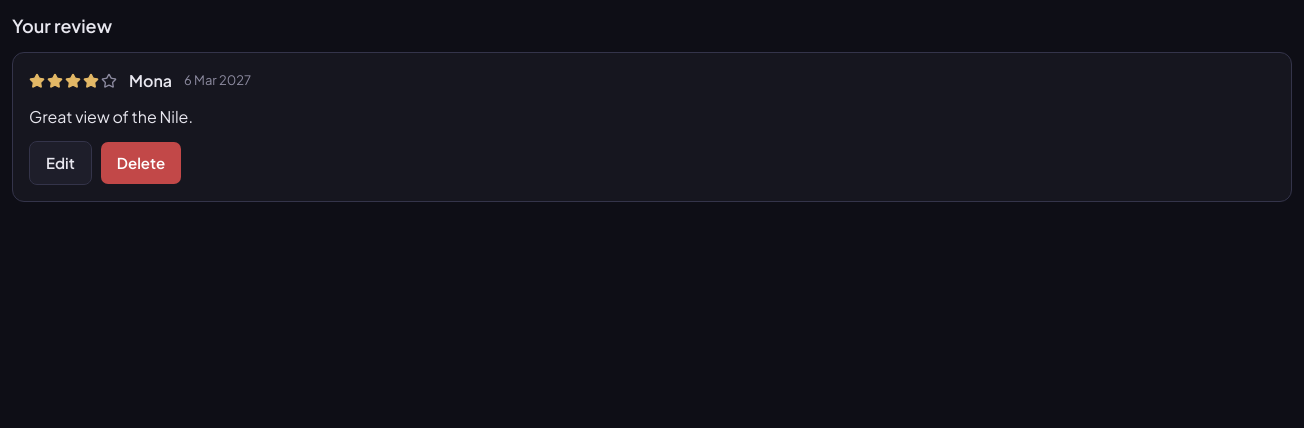
it: an edit error shows the backend message above the form and keeps the form open
Step 1. Click the button "Edit" → (60, 163), box [29,141,92,185]
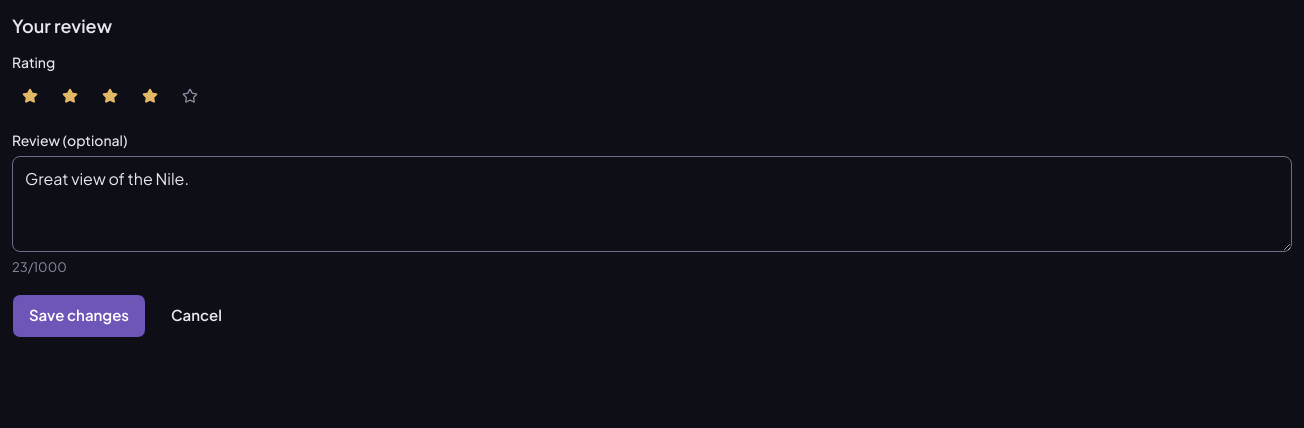
Step 2. Click the radio button named "1 star" → (30, 96), box [22,88,38,104]
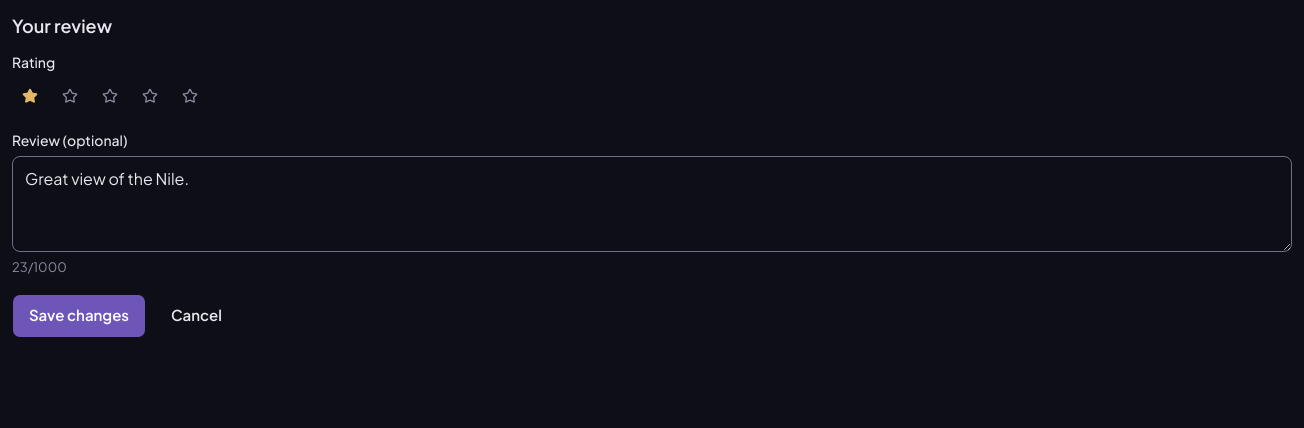
Step 3. Click the button "Save changes" → (79, 316), box [12,294,146,338]
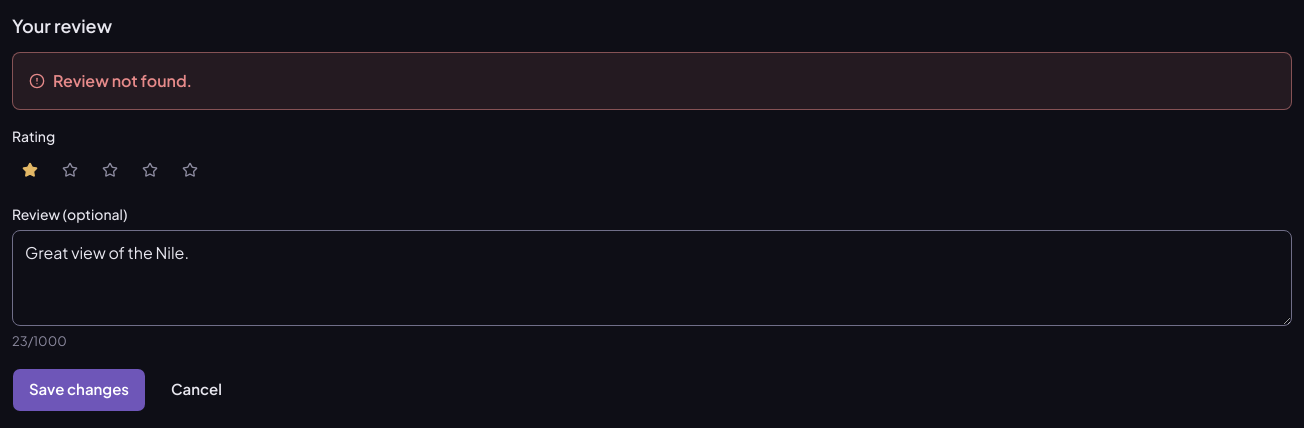
Now the button "Save changes" is shown, box [12,368,146,412]
Now the message reads "Review not found.", box [53,70,192,91]
